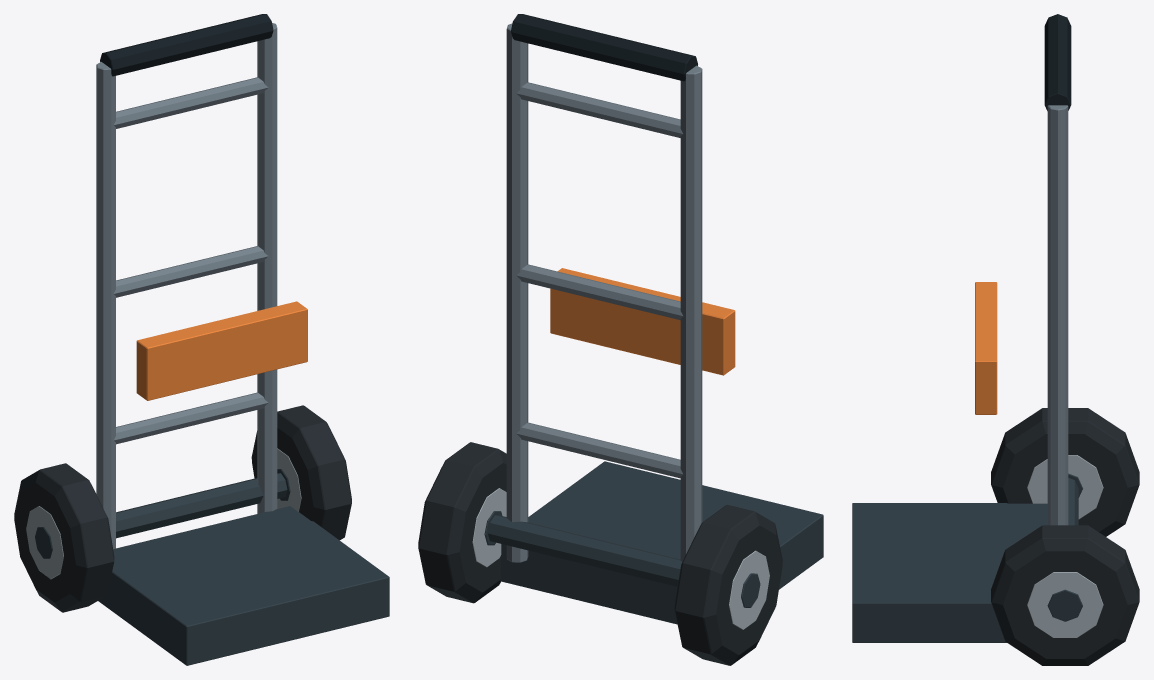
File: b04_two_wheel_refuse_bin_dolly.glb
3 views of the same model, side by side, from view 1: azimuth 30°, elevation 25°; view 2: azimuth 150°, elevation 25°; view 3: azimuth 270°, elevation 25° (orthographic). The views are drawn at different scales.
Visible parts, largest first — view 1: b04_two_wheel_refuse_bin_dolly; view 2: b04_two_wheel_refuse_bin_dolly; view 3: b04_two_wheel_refuse_bin_dolly.
Boxes of the visible parts, left/top/right/bottom form: b04_two_wheel_refuse_bin_dolly: left=14, top=14, right=389, bottom=665; b04_two_wheel_refuse_bin_dolly: left=418, top=14, right=823, bottom=665; b04_two_wheel_refuse_bin_dolly: left=852, top=14, right=1139, bottom=665.
Bounding box in the file's own units: 0.659 × 1.22 × 0.58.
